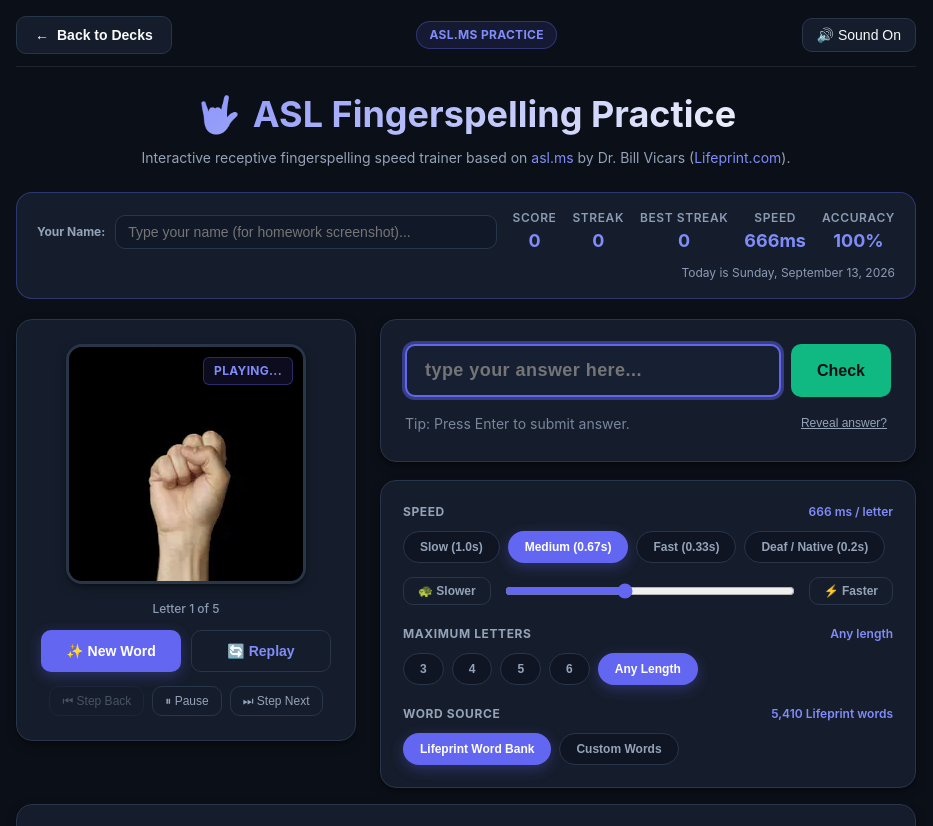
Test: Tier 1: Comprehensive Feature Coverage (Features 1 to 39) › Area 9: Fingerspelling Practice, Audio Feedback & Verification (Features 28-32) › 9.2: Speed presets (Slow, Medium, Fast, Deaf) update tempo label in ms
The width and height of the screenshot is (933, 826).
Click the button "Slow (1.0s)".
click(451, 547)  # box [403, 531, 500, 563]
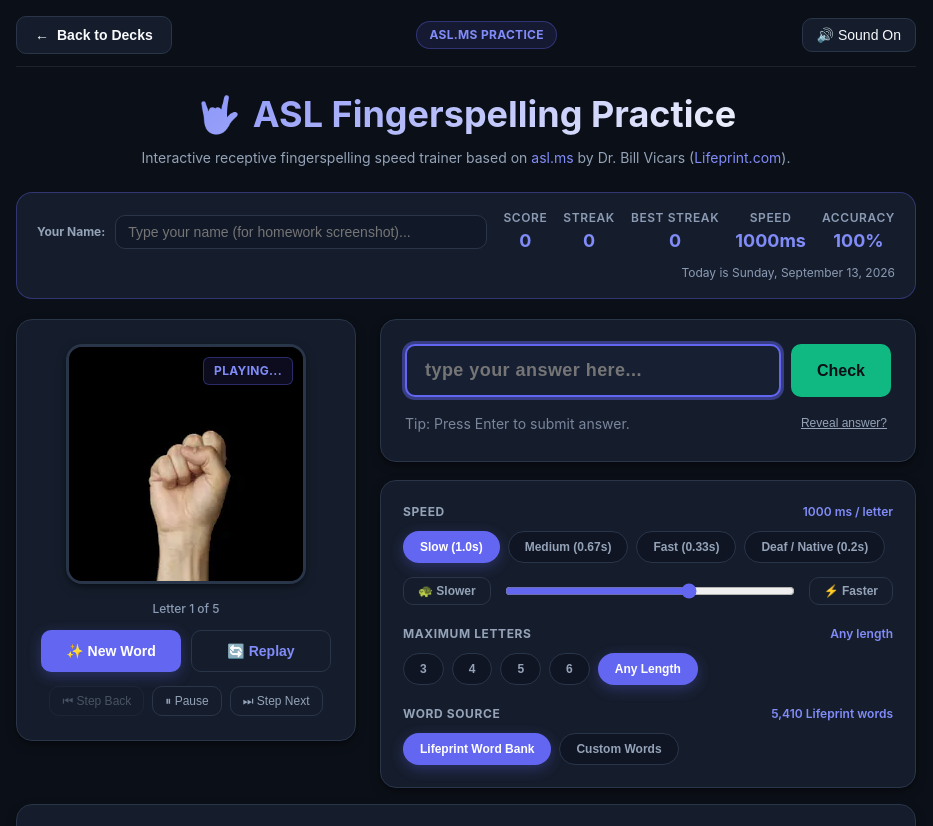
Expected: the text "1000 ms / letter" is shown, [803, 503, 893, 521]
Click the button "Fast (0.33s)".
click(686, 547)  # box [636, 531, 736, 563]
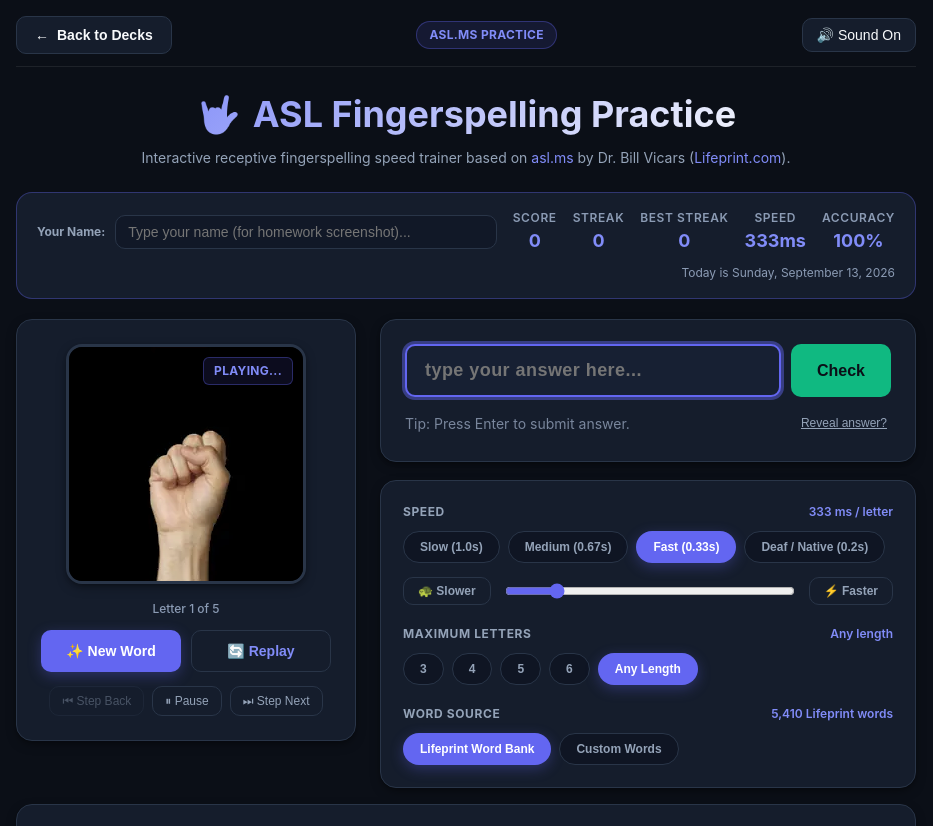
Expected: the text "333 ms / letter" is shown, [809, 503, 893, 521]
